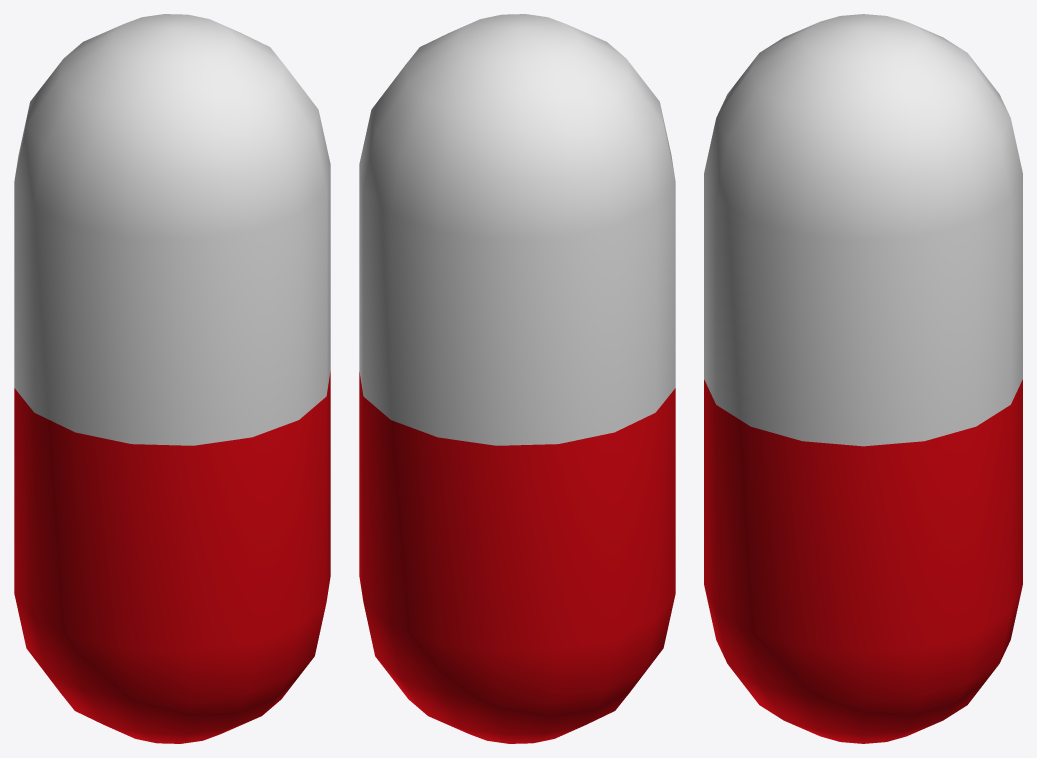
File: VJ_Capsula_Health.fbx
3 renders of one model, left to right at view 1: azimuth 30°, elevation 25°; view 2: azimuth 150°, elevation 25°; view 3: azimuth 270°, elevation 25°, orthographic.
Visible parts, largest first — view 1: Sphere; view 2: Sphere; view 3: Sphere.
Part boxes in pixels (x1,y1,x2,y2): Sphere: (14, 14, 330, 743); Sphere: (359, 14, 675, 743); Sphere: (704, 14, 1022, 743).
Bounding box in the file's own units: 1.47 × 3.56 × 1.47.
